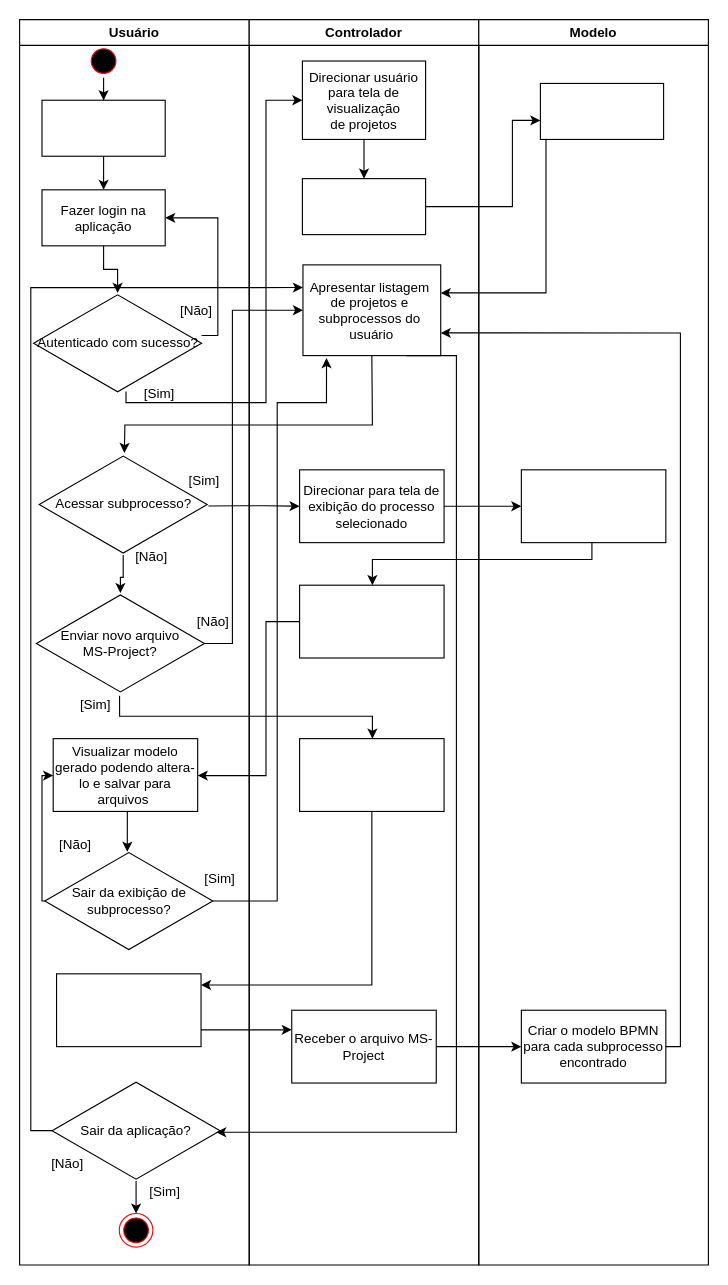
This 728x1285 diagram has some shape labels left out. The shapes that lost their labels are listed below. From the top down, each one's centre as x and y in pixels, then its label:
the point at 103,127: Acessar sistema no browser
the point at 601,110: Obter projetos do usuário
the point at 363,206: Obter usuário logado
the point at 593,506: Buscar XML gerado para o subprocesso
the point at 371,621: Apresentar modelo de mapa de subprocesso BPMN gerado
the point at 371,774: Direcionar para formulário de envio de arquivo do MS-Project
the point at 128,1010: Seguir passos para envio de arquivo MS-Project
